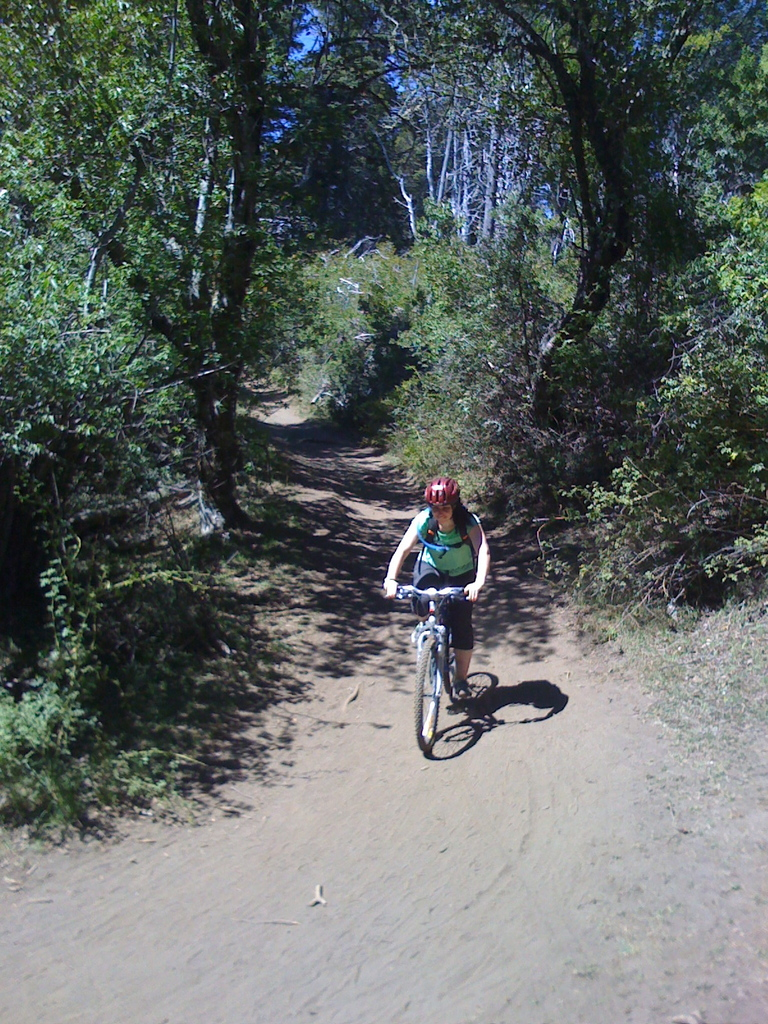Bike_toward: (378, 580, 502, 755)
